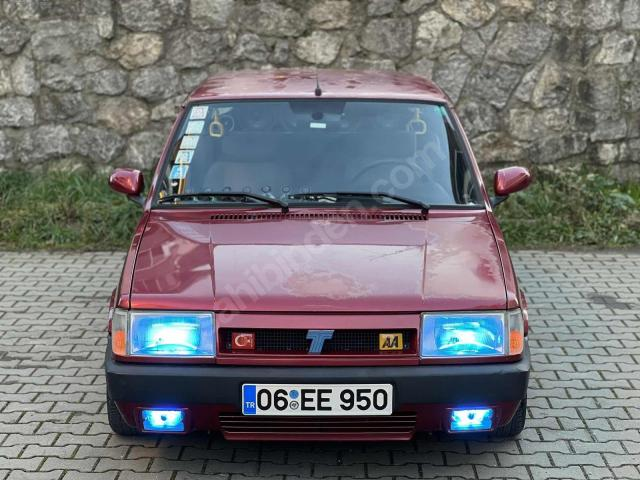plaka: (242, 384, 393, 416)
